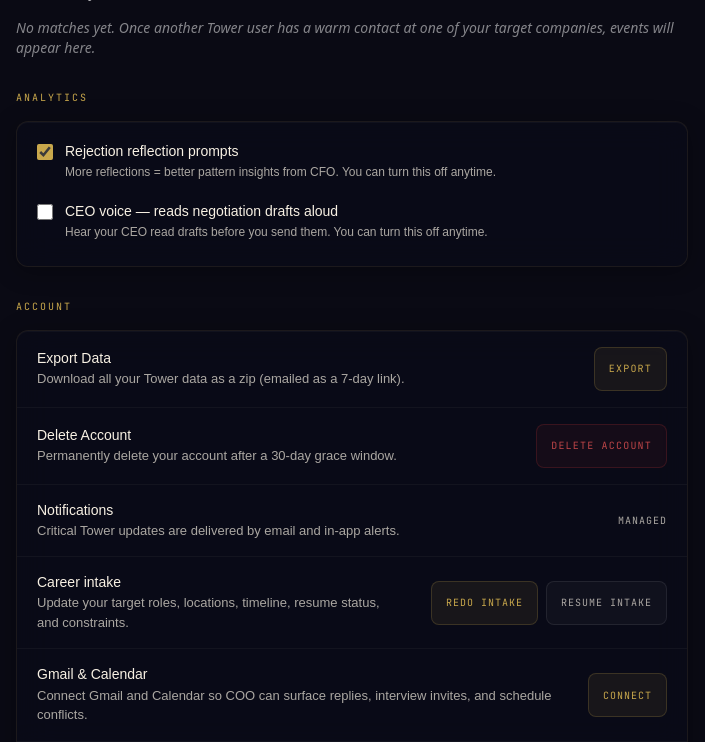
Test: SettingsClient account and billing actions › queues a data export request from the settings button
This screenshot has width=705, height=742.
(page scrolled)
Step 1. Click the button "Export" → x=630, y=368, box [594,346,667,390]
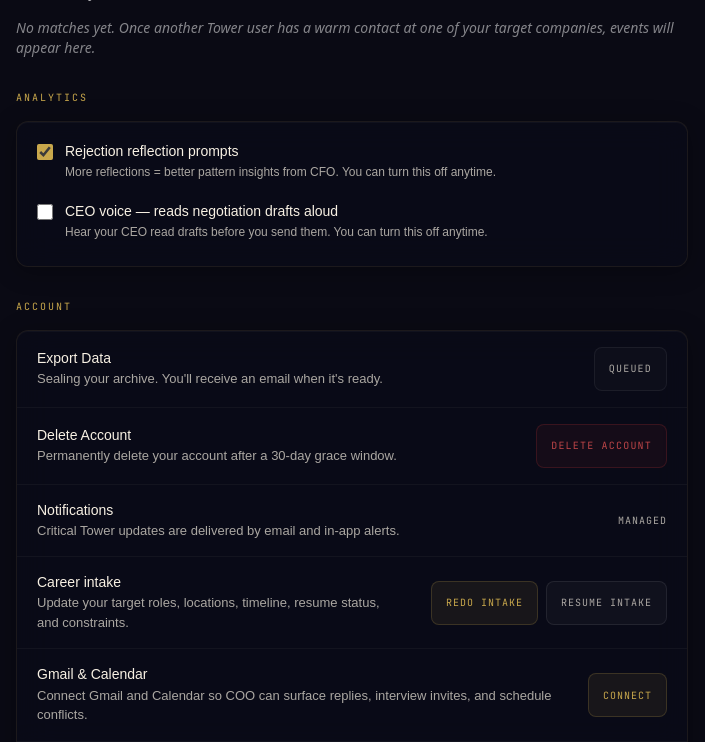
Result: the text "Sealing your archive. You'll receive an email when it's ready." is shown at [37,369,383,388]
